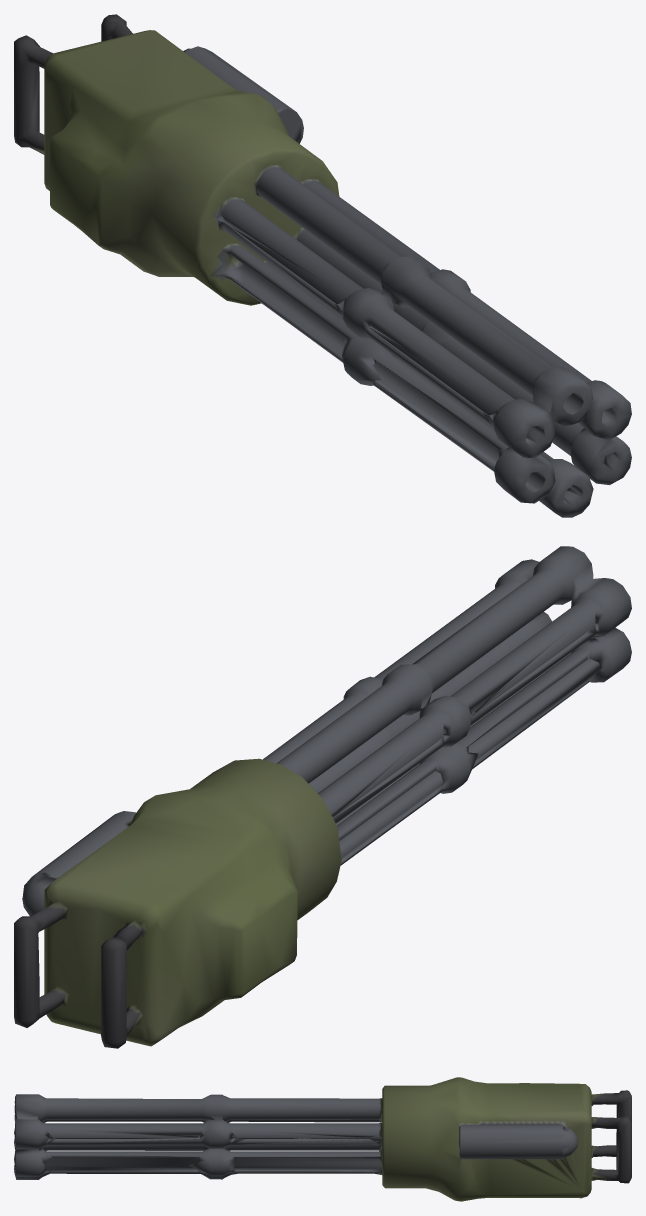
Rendered from minigun_fast.glb.
3 renders of one model, top to bottom at view 1: azimuth 30°, elevation 25°; view 2: azimuth 150°, elevation 25°; view 3: azimuth 270°, elevation 25°, orthographic. The views are drawn at different scales.
Parts seen in each view (by area): view 1: body; view 2: body; view 3: body.
Part boxes in pixels (x1,y1,x2,y2): body: [14, 14, 631, 517]; body: [14, 546, 631, 1048]; body: [14, 1077, 631, 1201].
Size of the model in its own units: 0.3384 by 0.282 by 1.51.
